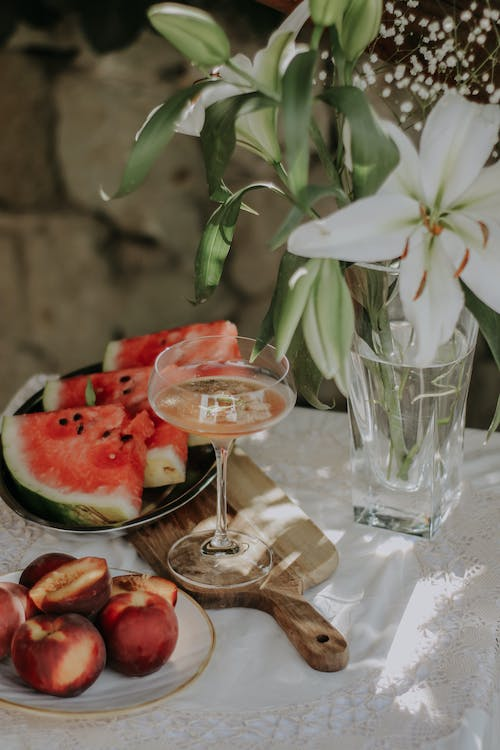alcohol: (146, 335, 298, 590)
